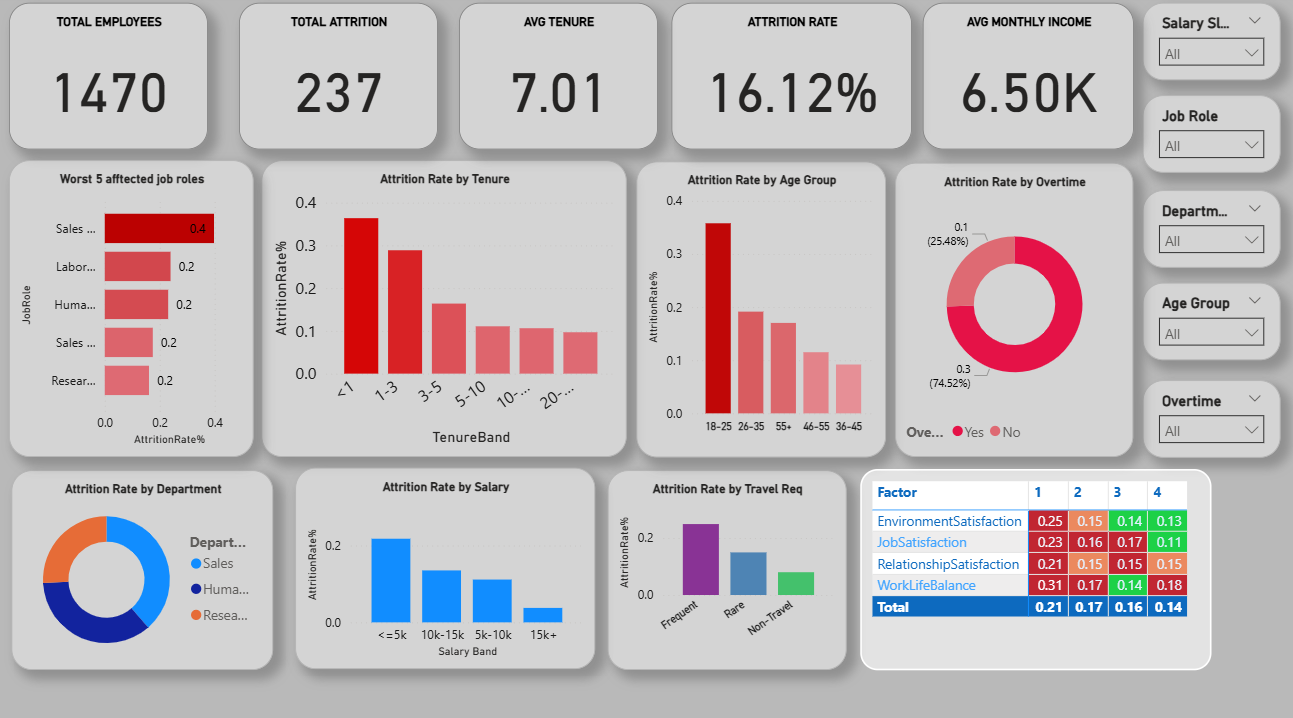

The dashboard page shown, as its layout file describes it:
{"tool":"powerbi","page":{"name":"Page 1","canvas":[1280,720],"ordinal":0},"visuals":[{"type":"card","title":"TOTAL EMPLOYEES","fields":{"Values":["HR_Analytics.TotalEmployees"]},"box":[15,8.8,195,143.8],"z":0},{"type":"clusteredColumnChart","title":"Attrition Rate by Tenure","fields":{"Category":["HR_Analytics.TenureBand"],"Y":["HR_Analytics.AttritionRate%"]},"box":[263,163.8,358.8,291.2],"z":1000},{"type":"clusteredColumnChart","title":"Attrition Rate by Salary ","fields":{"Category":["HR_Analytics.SalarySlabGroup"],"Y":["HR_Analytics.AttritionRate%"]},"box":[295.7,465,294.5,197.5],"z":2000},{"type":"clusteredColumnChart","title":"Attrition Rate by Travel Req","fields":{"Category":["HR_Analytics.BusinessTravel"],"Y":["HR_Analytics.AttritionRate%"]},"box":[603,467.5,234,196.2],"z":3000},{"type":"clusteredColumnChart","title":"Attrition Rate by Age Group","fields":{"Y":["HR_Analytics.AttritionRate%"],"Category":["HR_Analytics.AgeGroup"]},"box":[631,165,245,290],"z":4000},{"type":"donutChart","title":"Attrition Rate by Department","fields":{"Category":["HR_Analytics.Department"],"Y":["HR_Analytics.AttritionRate%"]},"box":[17.5,467.5,257,196.2],"z":5000},{"type":"slicer","title":"Attrition Rate by Salary ","fields":{"Values":["HR_Analytics.SalarySlabGroup"]},"box":[1127.6,8.6,135,76.1],"z":6000},{"type":"slicer","title":"Attrition Rate by Salary ","fields":{"Values":["HR_Analytics.JobRole"]},"box":[1127.6,99.4,135,76.1],"z":7000},{"type":"slicer","title":"Attrition Rate by Salary ","fields":{"Values":["HR_Analytics.Department"]},"box":[1127.6,192.6,135,76.1],"z":8000},{"type":"slicer","title":"Attrition Rate by Salary ","fields":{"Values":["HR_Analytics.AgeGroup"]},"box":[1127.6,283.4,135,76.1],"z":9000},{"type":"slicer","title":"Attrition Rate by Salary ","fields":{"Values":["HR_Analytics.OverTime"]},"box":[1127.6,379.1,135,76.1],"z":10000},{"type":"donutChart","title":"Attrition Rate by Overtime","fields":{"Category":["HR_Analytics.OverTime"],"Y":["HR_Analytics.AttritionRate%"]},"box":[885,166.2,233.8,288.8],"z":11000},{"type":"pivotTable","title":"Avg Tenure","fields":{"Rows":["HR_Analytics.Factor"],"Columns":["HR_Analytics.Satisfaction Score"],"Values":["HR_Analytics.AttritionRate%"]},"box":[850.3,466.3,344.8,197.5],"z":12000},{"type":"clusteredBarChart","title":"Worst 5 afftected job roles","fields":{"Category":["HR_Analytics.JobRole"],"Y":["HR_Analytics.AttritionRate%"]},"box":[15,163.8,240,291.2],"z":13000},{"type":"card","title":"TOTAL ATTRITION","fields":{"Values":["HR_Analytics.Total Attrition No"]},"box":[240,8.8,195,143.8],"z":14000},{"type":"card","title":"AVG TENURE","fields":{"Values":["HR_Analytics.AvgTenureYears"]},"box":[456.2,8.8,195,143.8],"z":15000},{"type":"card","title":"ATTRITION RATE","fields":{"Values":["HR_Analytics.Attrition Rate"]},"box":[665,8.8,236.2,143.8],"z":16000},{"type":"card","title":"AVG MONTHLY INCOME","fields":{"Values":["HR_Analytics.AvgMonthlyIncome"]},"box":[911.2,8.8,207.5,143.8],"z":17000}]}

Visuals, with their boxes in screenshot pixels (x1, y1, x2, y2), scaled from the page's 1280x720 canvas onto the 1293x718 screenshot:
"TOTAL EMPLOYEES" card: detection(15, 9, 212, 152)
"Attrition Rate by Tenure" clusteredColumnChart: detection(266, 163, 628, 454)
"Attrition Rate by Salary " clusteredColumnChart: detection(299, 464, 596, 661)
"Attrition Rate by Travel Req" clusteredColumnChart: detection(609, 466, 846, 662)
"Attrition Rate by Age Group" clusteredColumnChart: detection(637, 165, 885, 454)
"Attrition Rate by Department" donutChart: detection(18, 466, 277, 662)
"Attrition Rate by Salary " slicer: detection(1139, 9, 1275, 84)
"Attrition Rate by Salary " slicer: detection(1139, 99, 1275, 175)
"Attrition Rate by Salary " slicer: detection(1139, 192, 1275, 268)
"Attrition Rate by Salary " slicer: detection(1139, 283, 1275, 359)
"Attrition Rate by Salary " slicer: detection(1139, 378, 1275, 454)
"Attrition Rate by Overtime" donutChart: detection(894, 166, 1130, 454)
"Avg Tenure" pivotTable: detection(859, 465, 1207, 662)
"Worst 5 afftected job roles" clusteredBarChart: detection(15, 163, 258, 454)
"TOTAL ATTRITION" card: detection(242, 9, 439, 152)
"AVG TENURE" card: detection(461, 9, 658, 152)
"ATTRITION RATE" card: detection(672, 9, 910, 152)
"AVG MONTHLY INCOME" card: detection(920, 9, 1130, 152)
